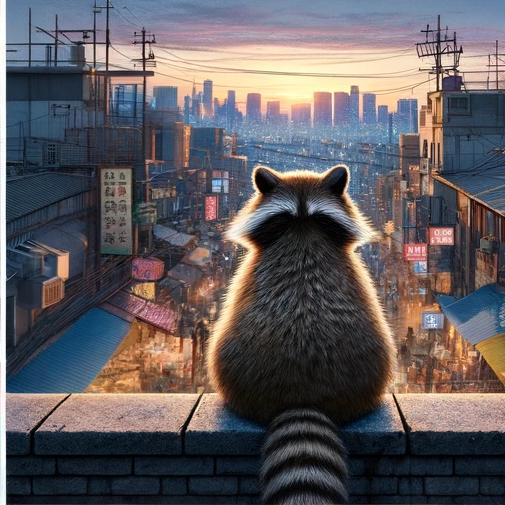raccoon: (187, 152, 421, 505)
